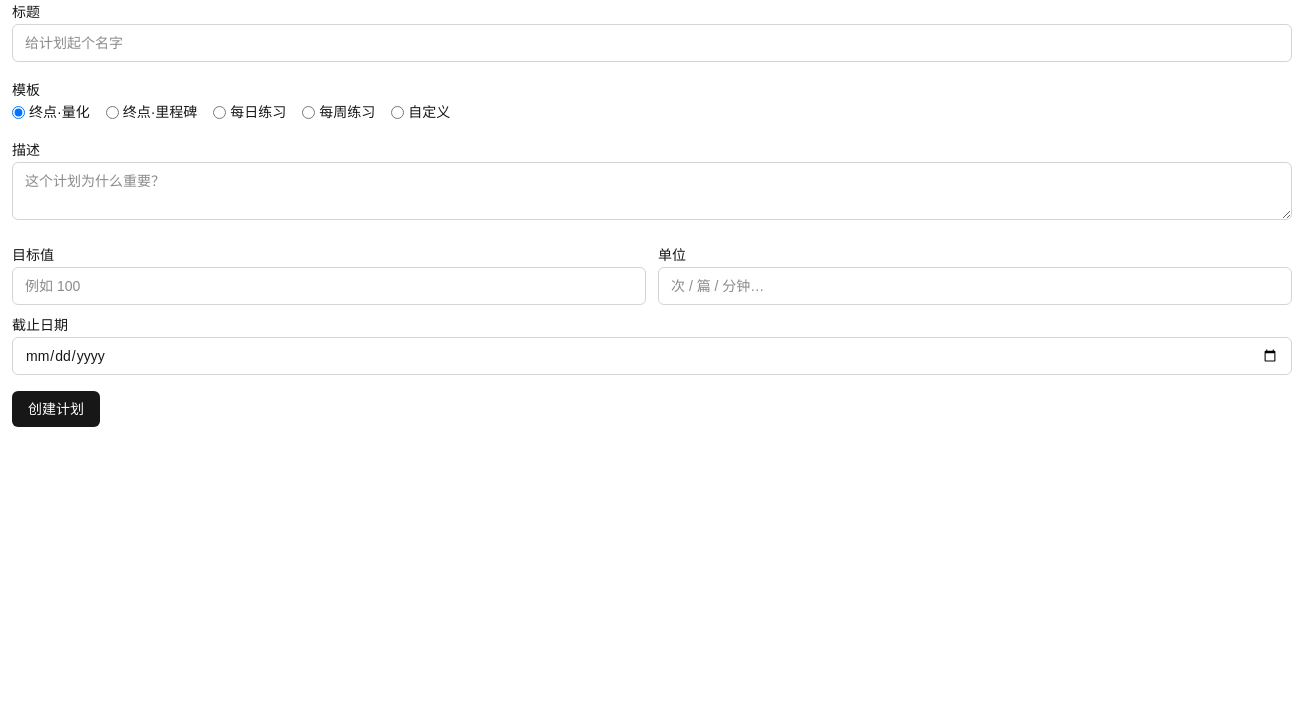
Test: PlanForm › custom 模板显示全部 facet（含 cadence 选择）
Click the radio button labelled "自定义" at {"x": 398, "y": 112}, box [391,106,404,118]
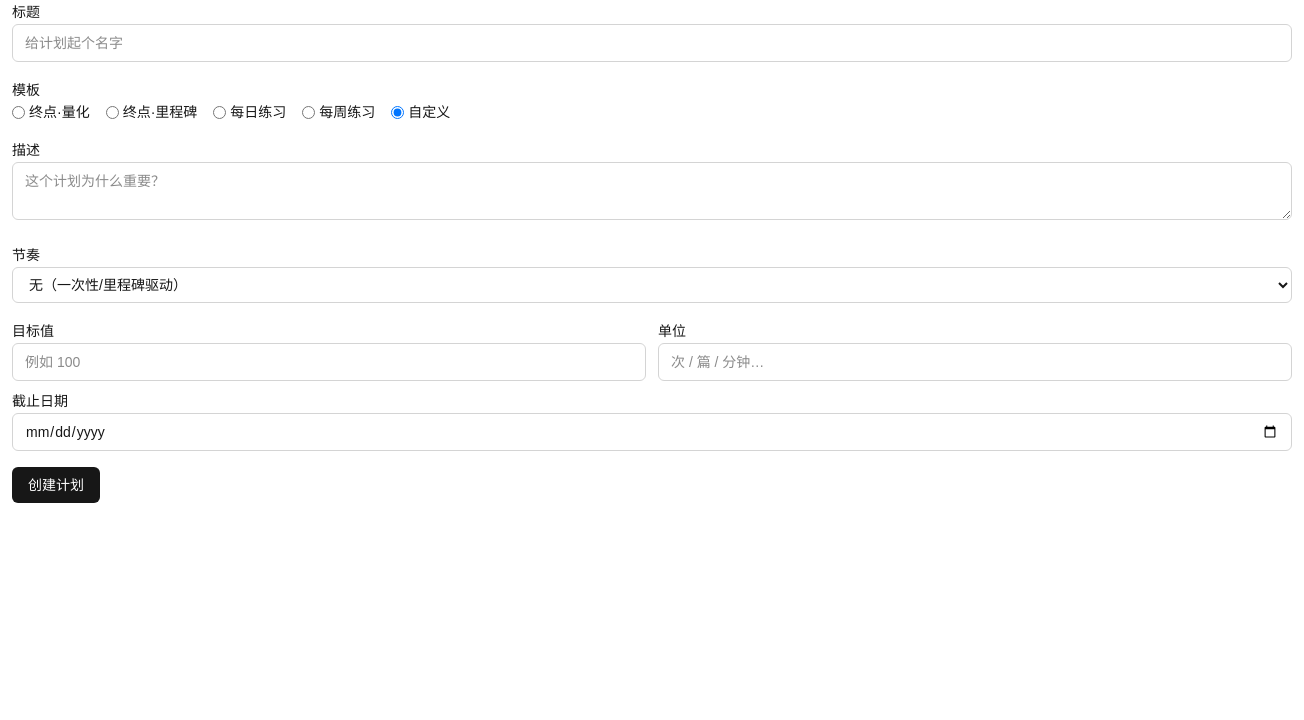
expect the number field labelled "目标值" is shown: met, box [12,343,646,381]
expect the dropdown labelled "节奏" is shown: met, box [12,267,1292,303]
